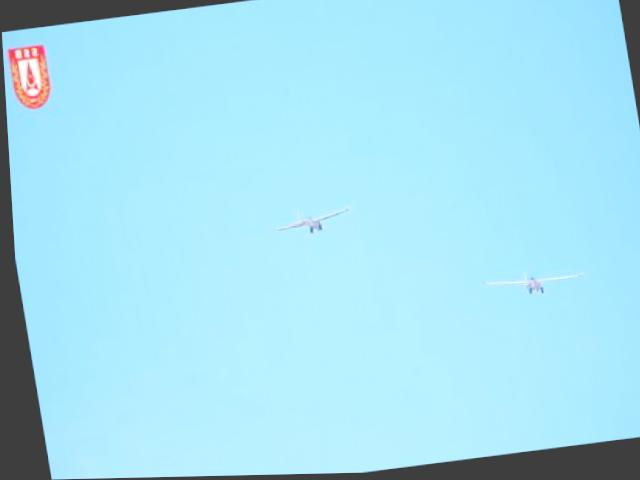uav: (478, 269, 585, 303), (269, 199, 354, 241)
